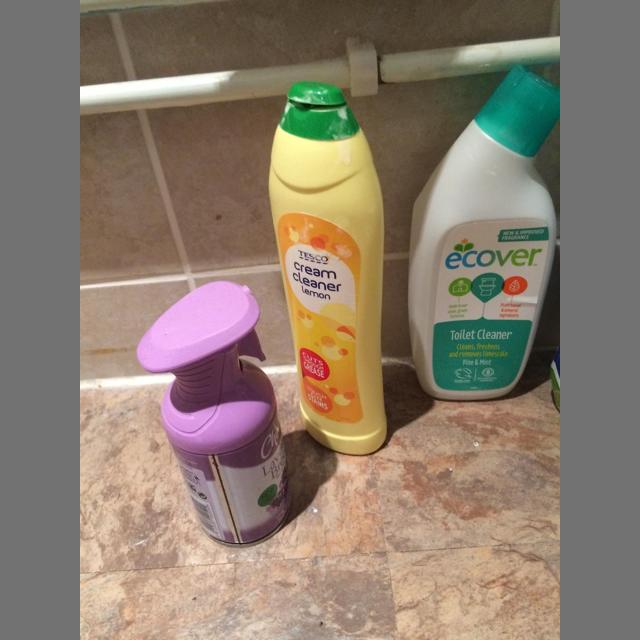litter: (408, 63, 560, 400), (269, 81, 387, 454), (137, 280, 292, 547), (474, 63, 560, 157)
